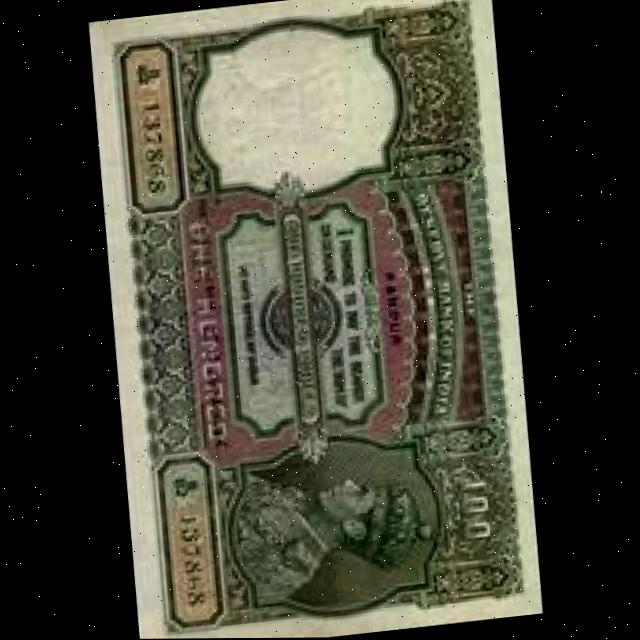banknote: (77, 0, 555, 639)
